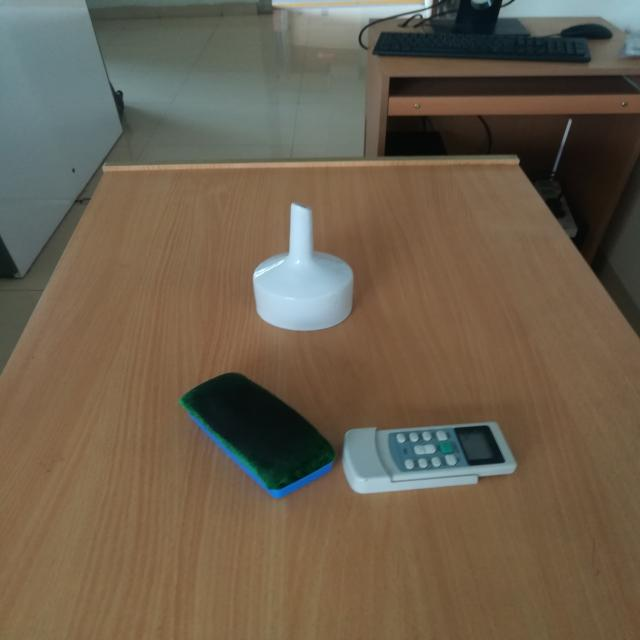Buchner_Funnel: (218, 184, 394, 353)
